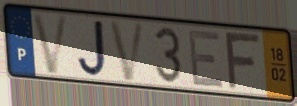3: (150, 25, 183, 86)
E: (186, 28, 226, 91)
F: (223, 32, 263, 92)
J: (76, 18, 109, 79)
V: (107, 18, 149, 84), (30, 11, 72, 76)
